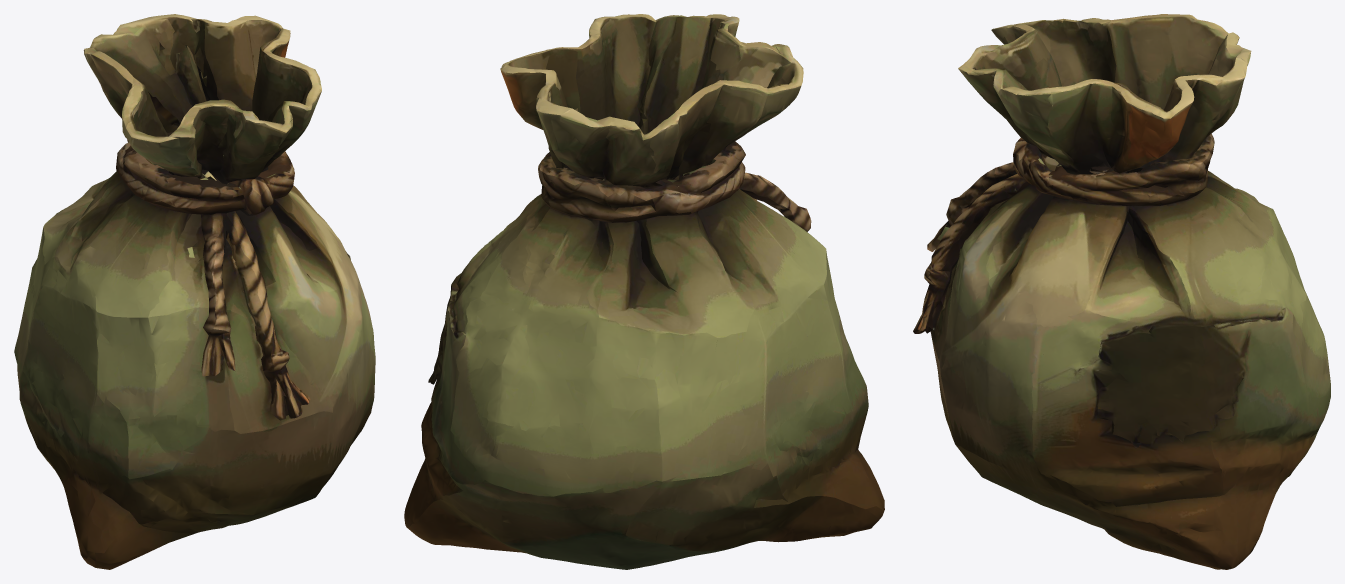
The model's file is item_herb_seed.glb.
The picture shows the model from 3 angles, left to right: view 1: azimuth 30°, elevation 25°; view 2: azimuth 150°, elevation 25°; view 3: azimuth 270°, elevation 25°; orthographic projection. The views are drawn at different scales.
Parts seen in each view (by area): view 1: item_herb_seed; view 2: item_herb_seed; view 3: item_herb_seed.
Part boxes in pixels (bbox=[...]): item_herb_seed: bbox=[14, 14, 375, 569]; item_herb_seed: bbox=[404, 14, 884, 569]; item_herb_seed: bbox=[913, 14, 1330, 569].
Size of the model in its own units: 0.0806 by 0.1 by 0.0843.
1 material, 1 textured.
